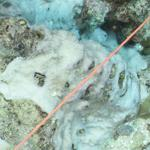alive: (1, 11, 148, 148)
